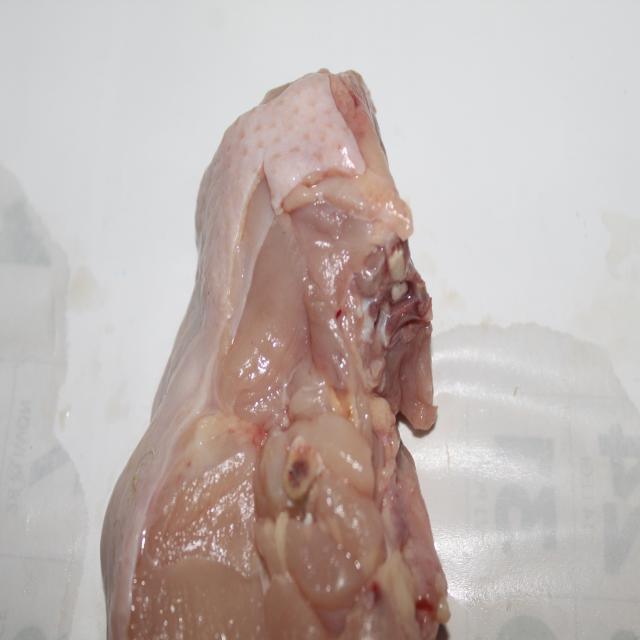chicken: (102, 70, 446, 640)
